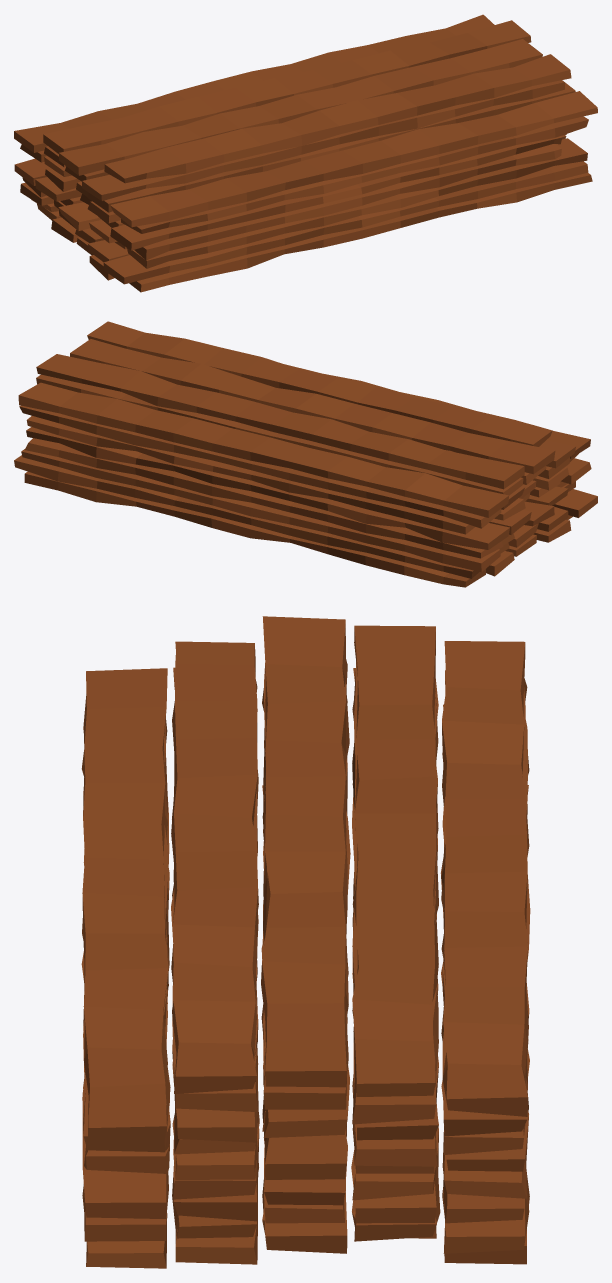
The model's file is Дошки1.fbx.
3 views of the same model, one above another, from view 1: azimuth 30°, elevation 25°; view 2: azimuth 150°, elevation 25°; view 3: azimuth 270°, elevation 25° (orthographic). The views are drawn at different scales.
Visible parts, largest first — view 1: Куб.097; view 2: Куб.097; view 3: Куб.097.
Boxes of the visible parts, box(x1,y1,x2,y2) form: Куб.097: box(14, 14, 597, 292); Куб.097: box(14, 321, 597, 587); Куб.097: box(81, 616, 530, 1268).
Bounding box in the file's own units: 5021 × 995 × 2044.
